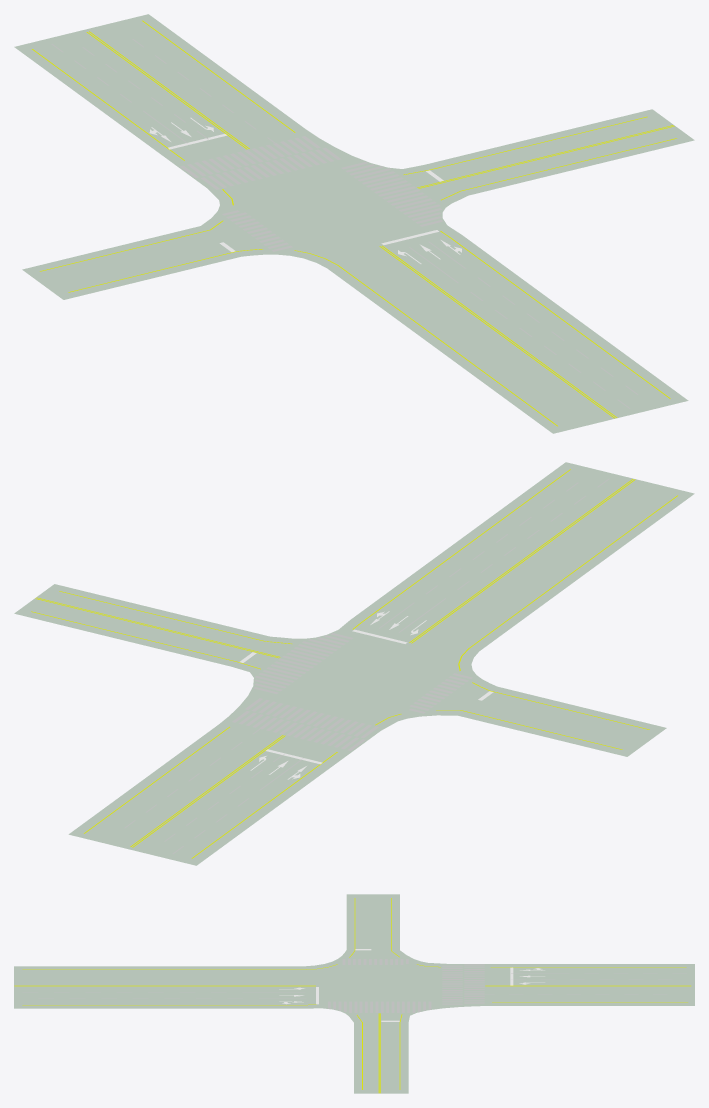
File: Daejeon_Base.fbx
3 views of the same model, one above another, from view 1: azimuth 30°, elevation 25°; view 2: azimuth 150°, elevation 25°; view 3: azimuth 270°, elevation 25° (orthographic). The views are drawn at different scales.
Parts seen in each view (by area): view 1: Road, CrossWalk, lm_Yellow, lm_White; view 2: Road, CrossWalk, lm_Yellow, lm_White; view 3: Road, lm_Yellow, CrossWalk, lm_White.
Boxes of the visible parts, bbox=[...] form: Road: bbox=[14, 14, 694, 433]; CrossWalk: bbox=[180, 136, 443, 251]; lm_Yellow: bbox=[32, 20, 676, 426]; lm_White: bbox=[51, 39, 637, 408]; Road: bbox=[14, 462, 694, 865]; CrossWalk: bbox=[232, 633, 472, 750]; lm_Yellow: bbox=[31, 469, 677, 858]; lm_White: bbox=[124, 479, 608, 853]; Road: bbox=[14, 894, 694, 1093]; lm_Yellow: bbox=[14, 898, 690, 1093]; CrossWalk: bbox=[328, 959, 484, 1012]; lm_White: bbox=[22, 973, 686, 998].
Size of the model in its own units: 89.12 by 0.00301 by 129.
